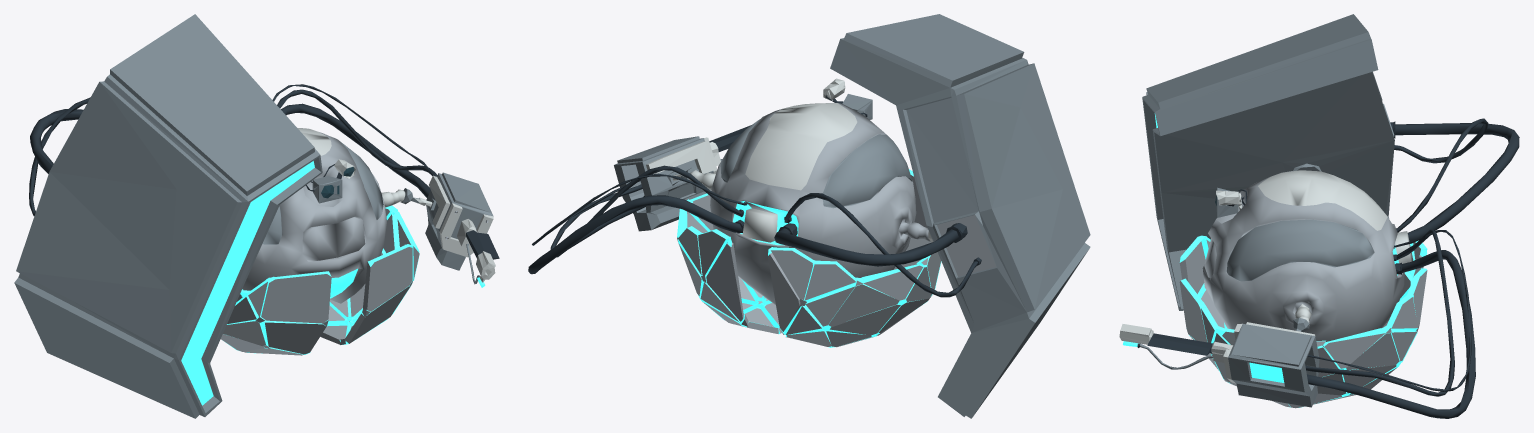
The model's file is bs-warden-lod.glb.
3 views of the same model, side by side, from view 1: azimuth 30°, elevation 25°; view 2: azimuth 150°, elevation 25°; view 3: azimuth 270°, elevation 25° (orthographic). The views are drawn at different scales.
Visible parts, largest first — view 1: bs_burt_drone; view 2: bs_burt_drone; view 3: bs_burt_drone.
Boxes of the visible parts, box(x1,y1,x2,y2) form: bs_burt_drone: box(14, 14, 499, 418); bs_burt_drone: box(528, 14, 1090, 418); bs_burt_drone: box(1119, 14, 1519, 418).
Bounding box in the file's own units: 2.4 × 1.68 × 1.88.
